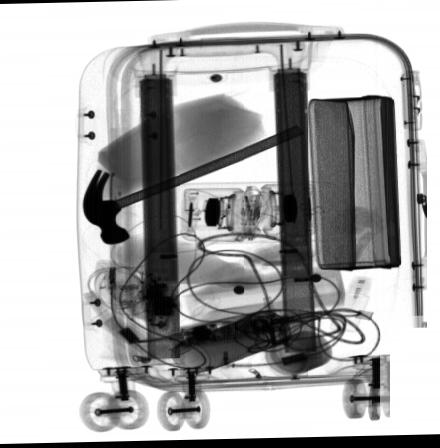Hammer: (81, 126, 304, 246)
